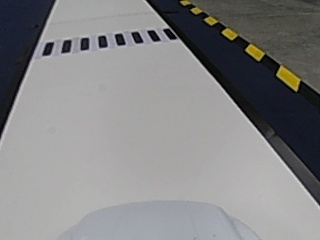crosswalk: (38, 26, 173, 58)
